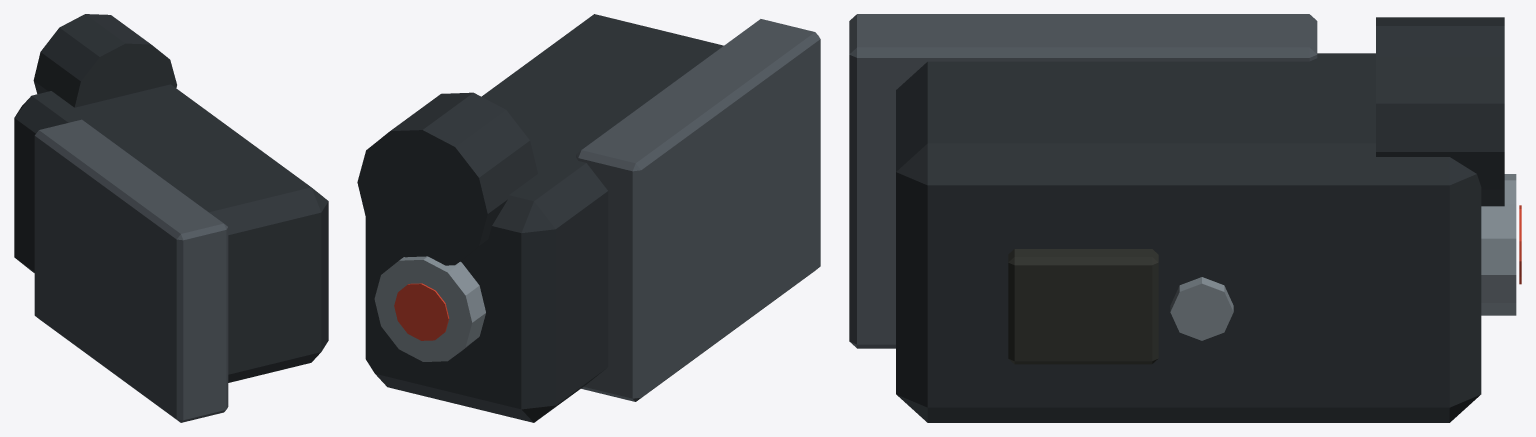
Rendered from att_laser_rail_ir.glb.
The picture shows the model from 3 angles, left to right: view 1: azimuth 30°, elevation 25°; view 2: azimuth 150°, elevation 25°; view 3: azimuth 270°, elevation 25°; orthographic projection. The views are drawn at different scales.
Visible parts, largest first — view 1: Geometry_att_laser_rail_ir; view 2: Geometry_att_laser_rail_ir; view 3: Geometry_att_laser_rail_ir.
Part boxes in pixels (x1=…): Geometry_att_laser_rail_ir: x1=14, y1=14, x2=328, y2=422; Geometry_att_laser_rail_ir: x1=357, y1=14, x2=820, y2=422; Geometry_att_laser_rail_ir: x1=849, y1=14, x2=1521, y2=422.
Size of the model in its own units: 0.0455 by 0.052 by 0.085.
